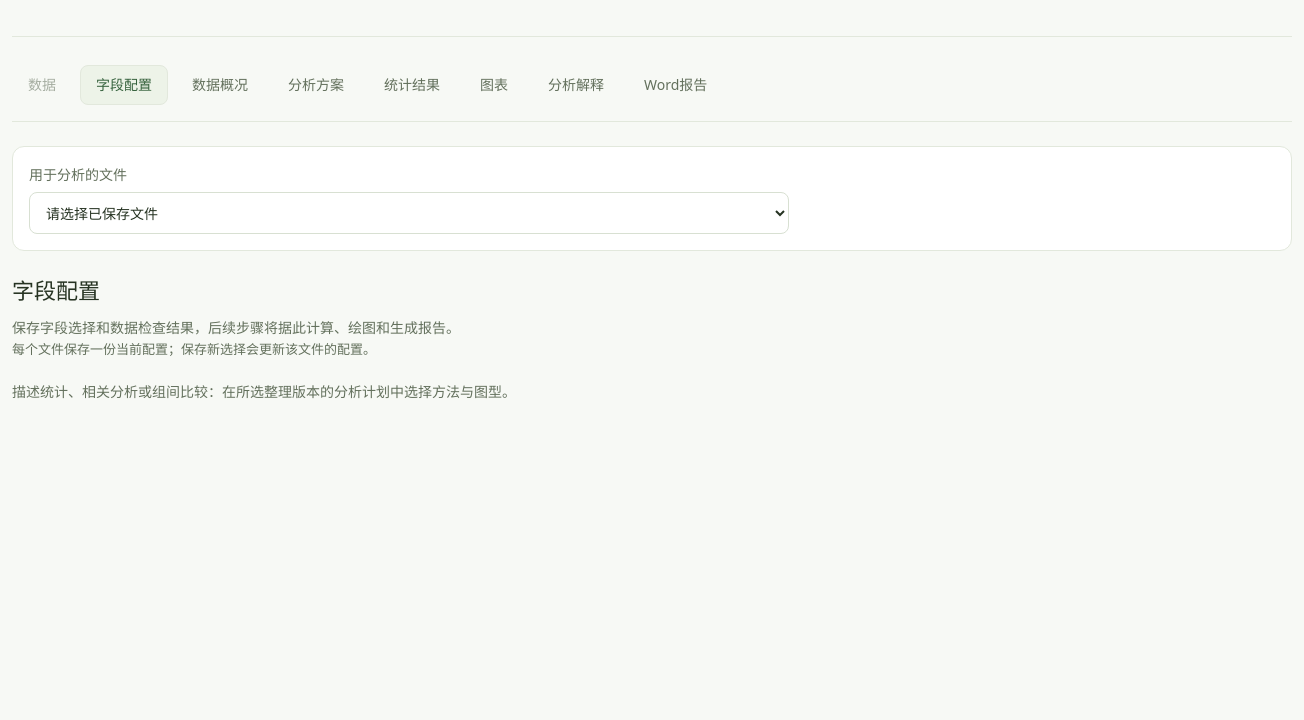
Scenario: only successful versions are selectable and the restored bound version is fetched outside page one
Select "研究.xlsx · 2026/10/10 01:00:00" in the dropdown labelled "用于分析的文件" at [409, 213], box [29,192,789,234]
(page scrolled)
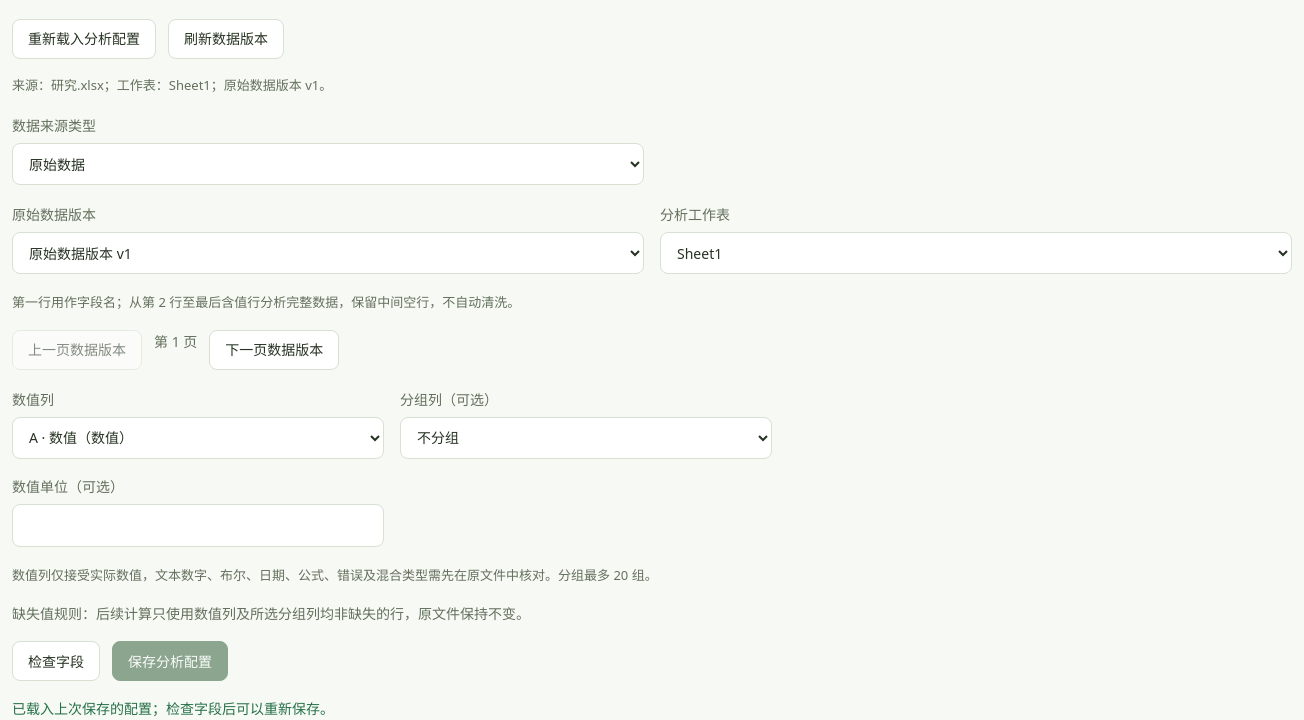
Now the dropdown labelled "原始数据版本" shows "原始数据版本 v1", box [12,232,644,274]
Now the dropdown labelled "数值列" shows "A · 数值（数值）", box [12,417,384,459]
